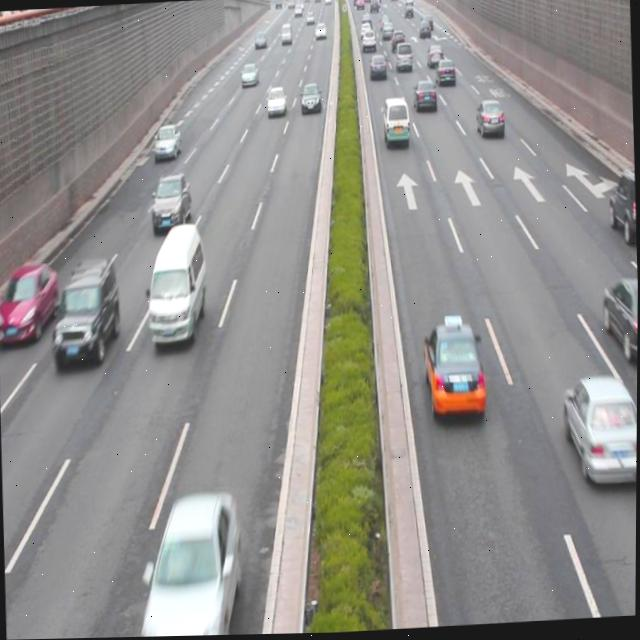car: (141, 492, 242, 637), (562, 375, 638, 490), (49, 254, 121, 367), (423, 320, 485, 421), (0, 259, 58, 346), (600, 279, 638, 363), (150, 171, 191, 234), (607, 169, 637, 245), (475, 98, 503, 140), (153, 124, 182, 160), (412, 80, 436, 115), (299, 81, 320, 113), (265, 87, 285, 118)
truck: (144, 222, 208, 346), (380, 97, 411, 145)
